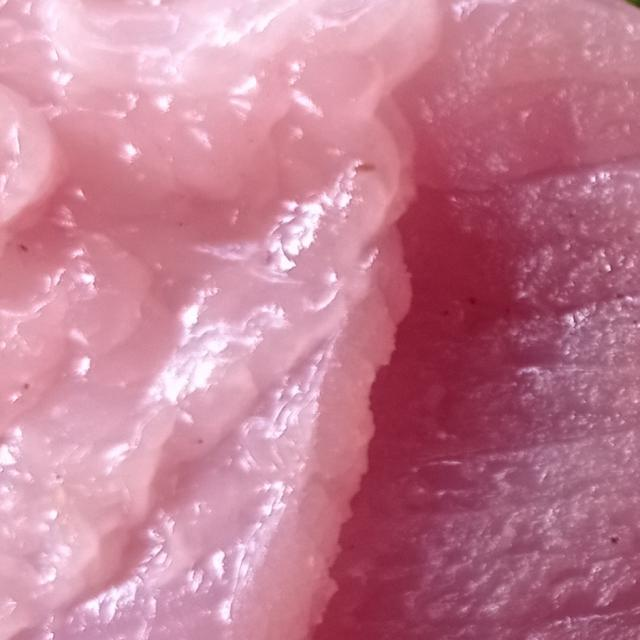pork belly: (28, 68, 600, 598)
